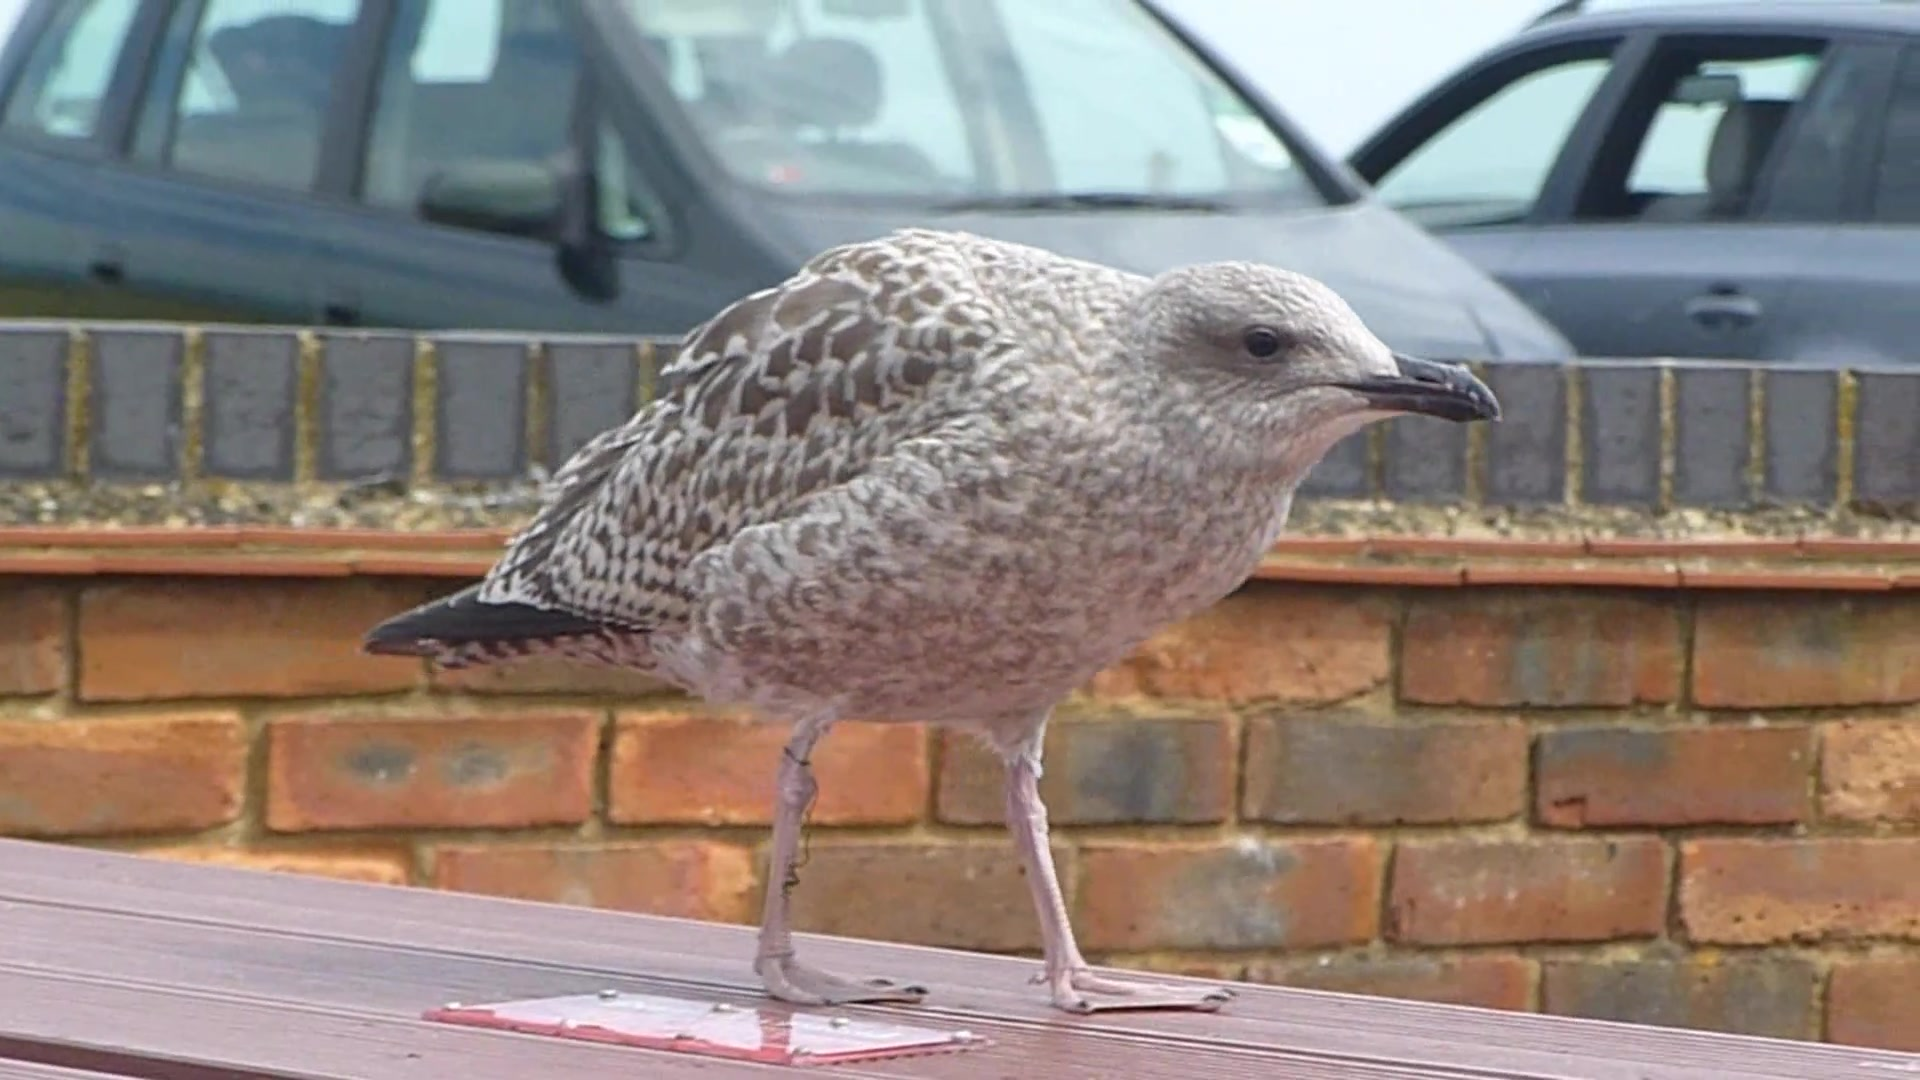bird: (356, 225, 1505, 1015)
